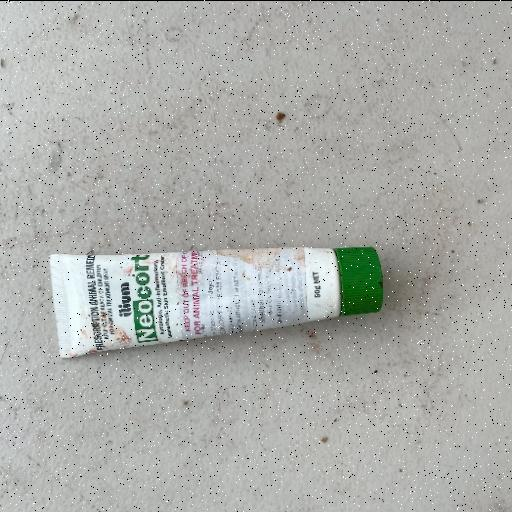Plastic: (48, 244, 385, 360)
